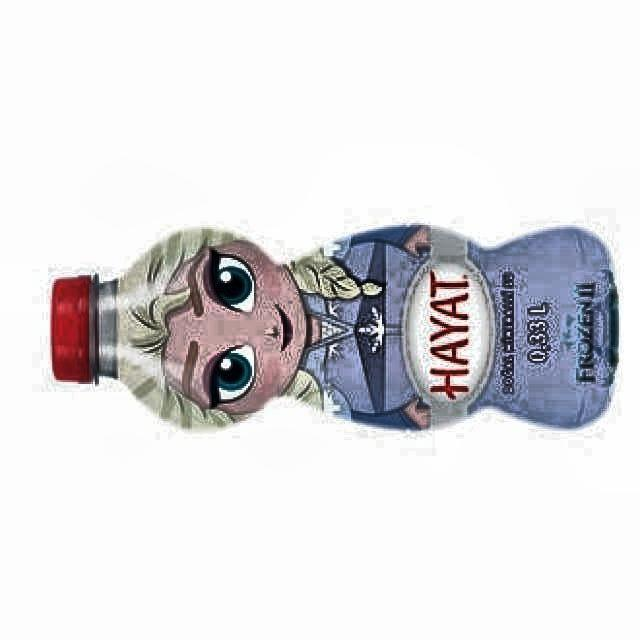plastic: (51, 225, 618, 428)
